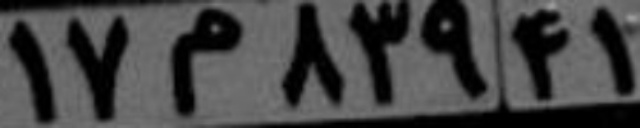1: (8, 19, 59, 122), (588, 6, 637, 96)
3: (348, 0, 415, 105)
4: (509, 6, 571, 100)
7: (64, 16, 143, 121)
8: (280, 2, 343, 105)
9: (419, 1, 489, 99)
mim: (168, 6, 246, 115)
